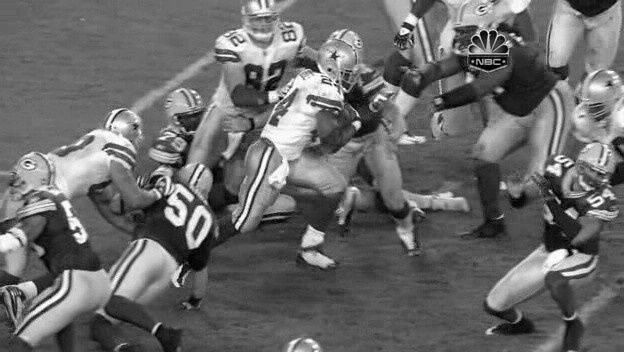person: (318, 44, 353, 88), (317, 44, 352, 88), (319, 44, 354, 88), (318, 43, 353, 87), (318, 45, 353, 89)
target_negative: (154, 182, 617, 234), (230, 229, 554, 274), (209, 338, 366, 352), (525, 316, 597, 328)
